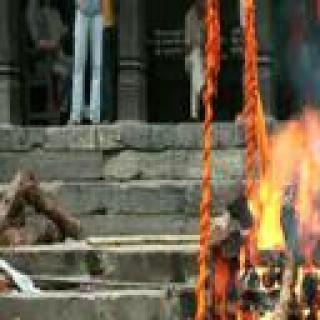fire: (251, 95, 320, 320)
